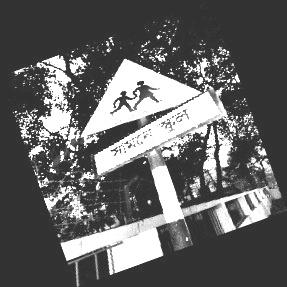School-in-front: (80, 59, 222, 175)
